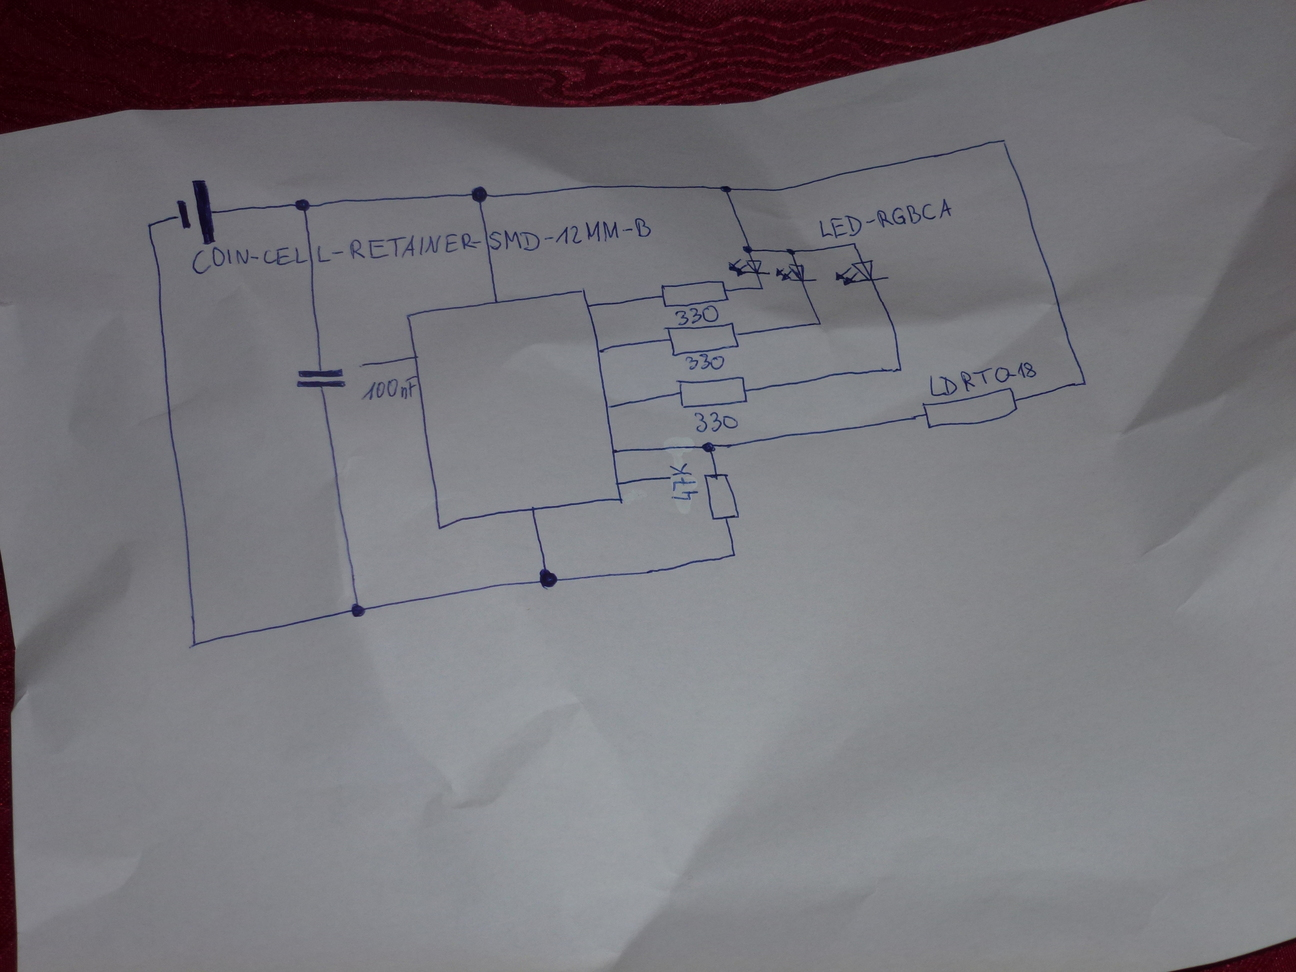capacitor.unpolarized: (293, 364, 351, 392)
diode.light_emitting: (832, 257, 891, 288), (726, 256, 772, 279), (774, 262, 821, 283)
integrated_circuit: (404, 286, 625, 532)
junction: (533, 565, 562, 591), (466, 183, 492, 206), (292, 194, 314, 215), (347, 600, 368, 619), (700, 438, 721, 456), (187, 637, 201, 652), (717, 182, 733, 195), (893, 362, 907, 376), (997, 134, 1009, 148), (144, 218, 156, 232), (741, 241, 755, 252), (785, 245, 798, 256), (1078, 377, 1089, 390), (727, 549, 738, 560), (756, 282, 767, 291), (813, 318, 824, 327), (850, 239, 860, 248)
resistor: (921, 385, 1019, 432), (663, 319, 741, 358), (678, 374, 747, 410), (659, 278, 731, 308), (701, 469, 738, 523)
text: (189, 215, 653, 278), (816, 200, 949, 237), (928, 358, 1038, 399), (360, 373, 418, 403), (674, 301, 721, 327), (667, 461, 696, 502), (681, 351, 731, 374), (692, 410, 741, 433)
voltage.dc: (175, 177, 219, 246)
